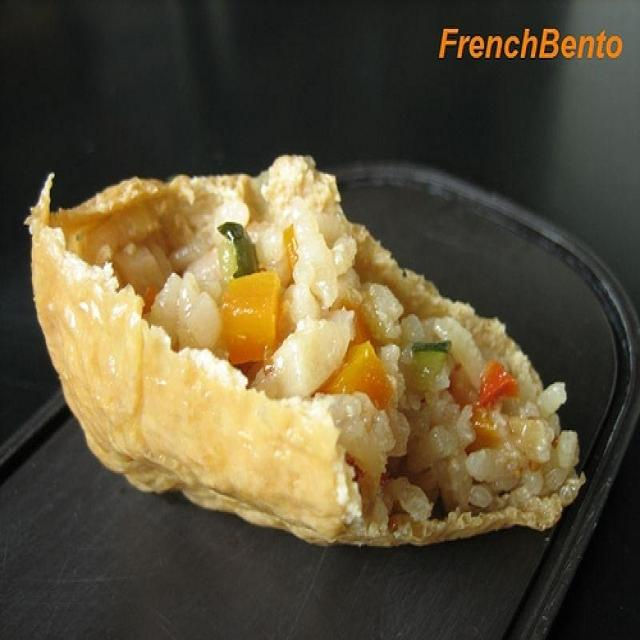寿司卷物: (18, 109, 603, 594)
